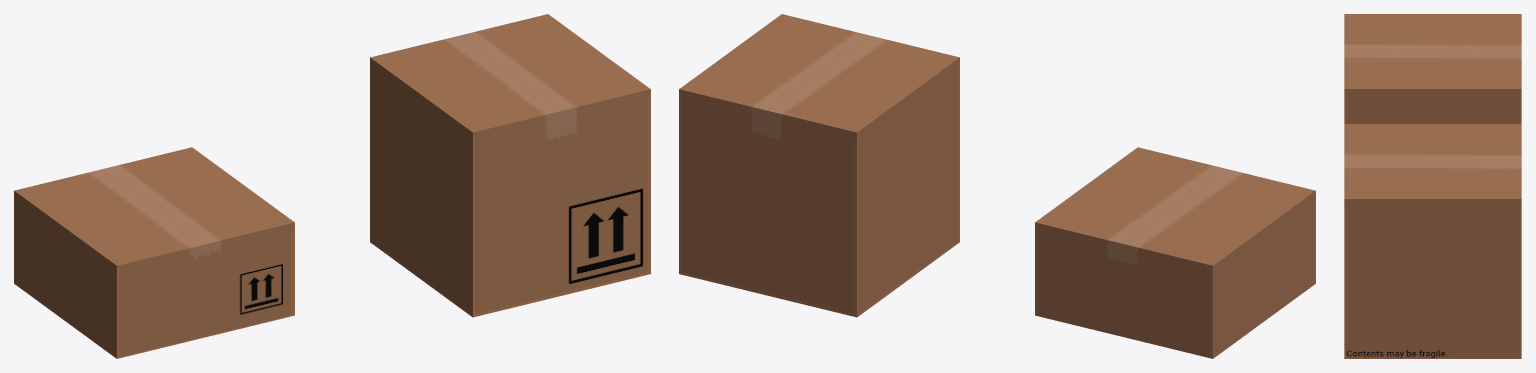
3 views of the same model, side by side, from view 1: azimuth 30°, elevation 25°; view 2: azimuth 150°, elevation 25°; view 3: azimuth 270°, elevation 25° (orthographic). The views are drawn at different scales.
Visible parts, largest first — view 1: box, small box, box flap l, box flap, box flap r, box flap r.001; view 2: box, small box, box flap l, box flap, box flap r, box flap r.001; view 3: box, box flap r, box flap r.001, box flap, box flap l, small box.
Boxes of the visible parts, <box> form: box: <box>370,62,650,317</box>; small box: <box>14,193,294,358</box>; box flap l: <box>370,36,561,136</box>; box flap: <box>14,169,205,267</box>; box flap r: <box>459,14,650,115</box>; box flap r.001: <box>103,147,294,246</box>; box: <box>679,62,959,317</box>; small box: <box>1035,193,1315,358</box>; box flap l: <box>768,36,959,136</box>; box flap: <box>1124,169,1315,267</box>; box flap r: <box>679,14,870,115</box>; box flap r.001: <box>1035,147,1226,246</box>; box: <box>1344,203,1521,358</box>; box flap r: <box>1344,161,1521,202</box>; box flap r.001: <box>1344,51,1521,90</box>; box flap: <box>1344,14,1521,51</box>; box flap l: <box>1344,124,1521,161</box>; small box: <box>1344,91,1521,123</box>.
Size of the model in its own units: 225 by 74.46 by 75.
